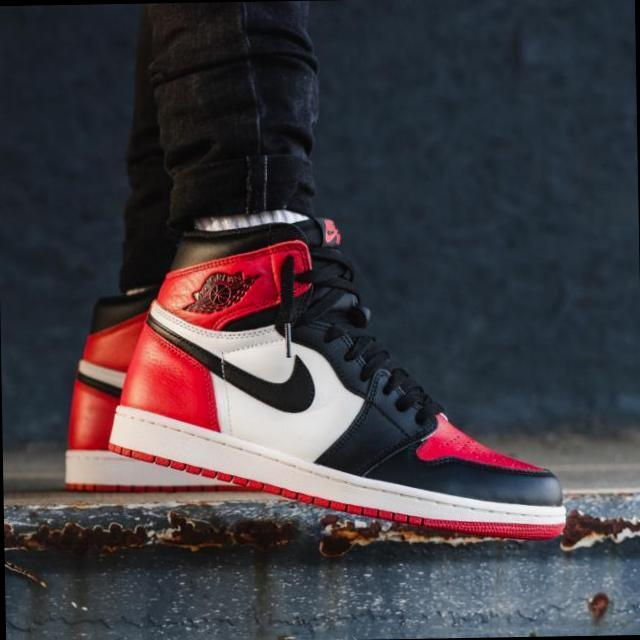nike_original_jordan: (106, 204, 573, 560)
